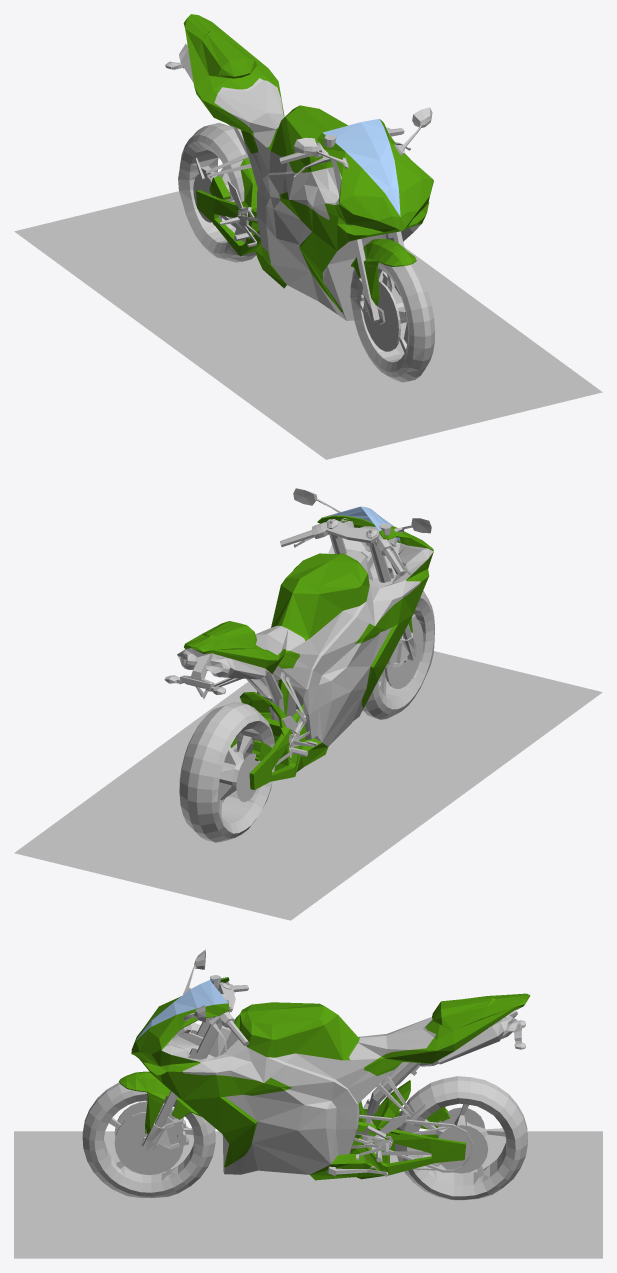
Rendered from bike.obj.
The picture shows the model from 3 angles, top to bottom: view 1: azimuth 30°, elevation 25°; view 2: azimuth 150°, elevation 25°; view 3: azimuth 270°, elevation 25°; orthographic projection. The views are drawn at different scales.
Visible parts, largest first — view 1: shadow, bike1_carpaint, bike1_metal, bike1_rubber, bike1_glass; view 2: shadow, bike1_metal, bike1_carpaint, bike1_rubber; view 3: shadow, bike1_metal, bike1_carpaint, bike1_rubber, bike1_glass, BodyRed.
Boxes of the visible parts, x1,y1,x2,y2 form: shadow: (14, 191, 602, 459); bike1_carpaint: (183, 14, 433, 312); bike1_metal: (165, 44, 432, 362); bike1_rubber: (178, 78, 435, 382); bike1_glass: (322, 118, 400, 216); shadow: (14, 651, 602, 920); bike1_metal: (164, 488, 433, 823); bike1_carpaint: (184, 515, 433, 789); bike1_rubber: (179, 530, 434, 842); shadow: (14, 1131, 602, 1258); bike1_metal: (103, 949, 525, 1185); bike1_carpaint: (119, 977, 530, 1180); bike1_rubber: (82, 985, 527, 1200); bike1_glass: (136, 977, 227, 1040); BodyRed: (363, 1126, 450, 1170).
Bounding box in the file's own units: 920 × 737 × 1796.
